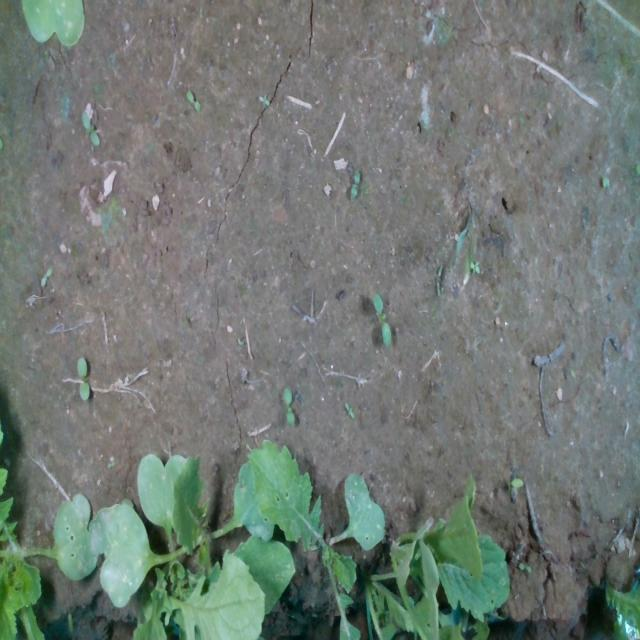weed: (371, 291, 393, 349), (343, 401, 355, 420)
